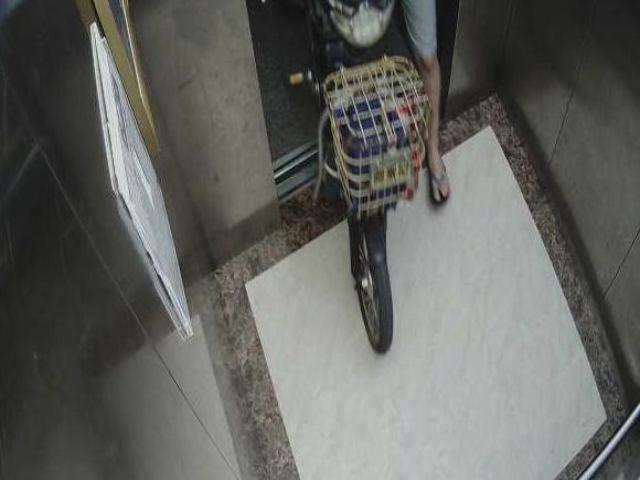emotor: (285, 6, 442, 362)
